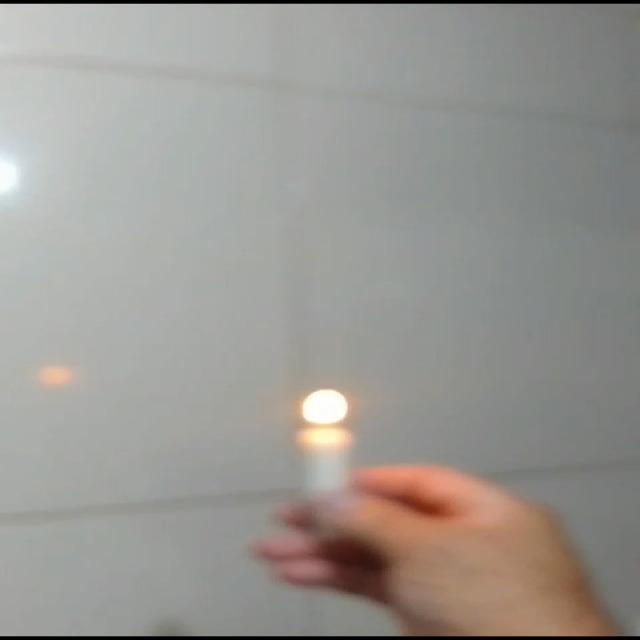fogo-ypXI: (302, 389, 349, 425)
